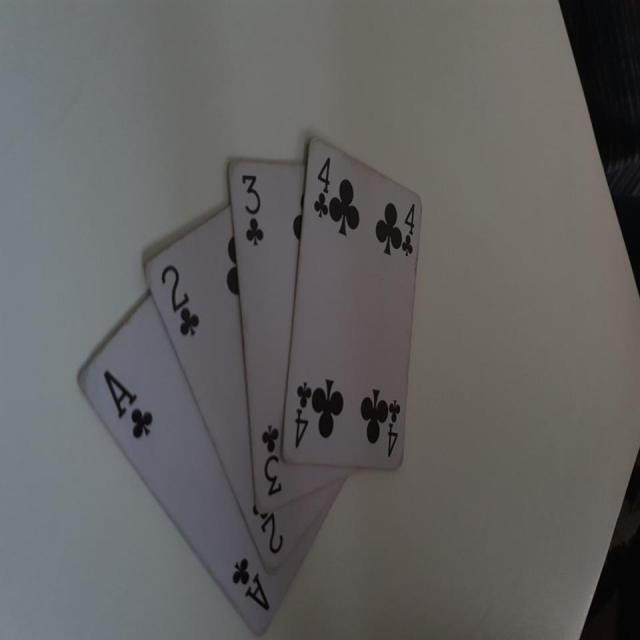2 Trefoils: (140, 205, 337, 575)
3 Trefoils: (225, 156, 356, 514)
4 Trefoils: (279, 134, 424, 472)
A Trefoils: (77, 290, 349, 636)
